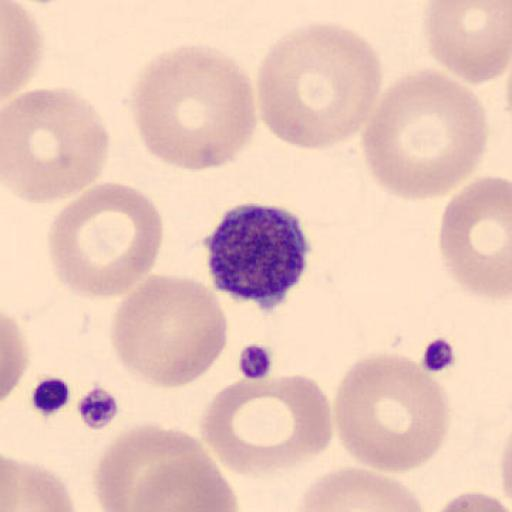Platelet: (203, 199, 313, 310)
RBC: (129, 41, 259, 173), (361, 68, 489, 202), (257, 20, 383, 152), (332, 349, 453, 473), (199, 373, 337, 478), (45, 180, 165, 300), (109, 272, 229, 390), (2, 86, 112, 205), (90, 421, 223, 512), (438, 174, 512, 301), (421, 0, 512, 85), (290, 465, 427, 512), (126, 457, 240, 512), (0, 453, 77, 512), (2, 0, 44, 102), (0, 308, 30, 406), (429, 489, 512, 511)
